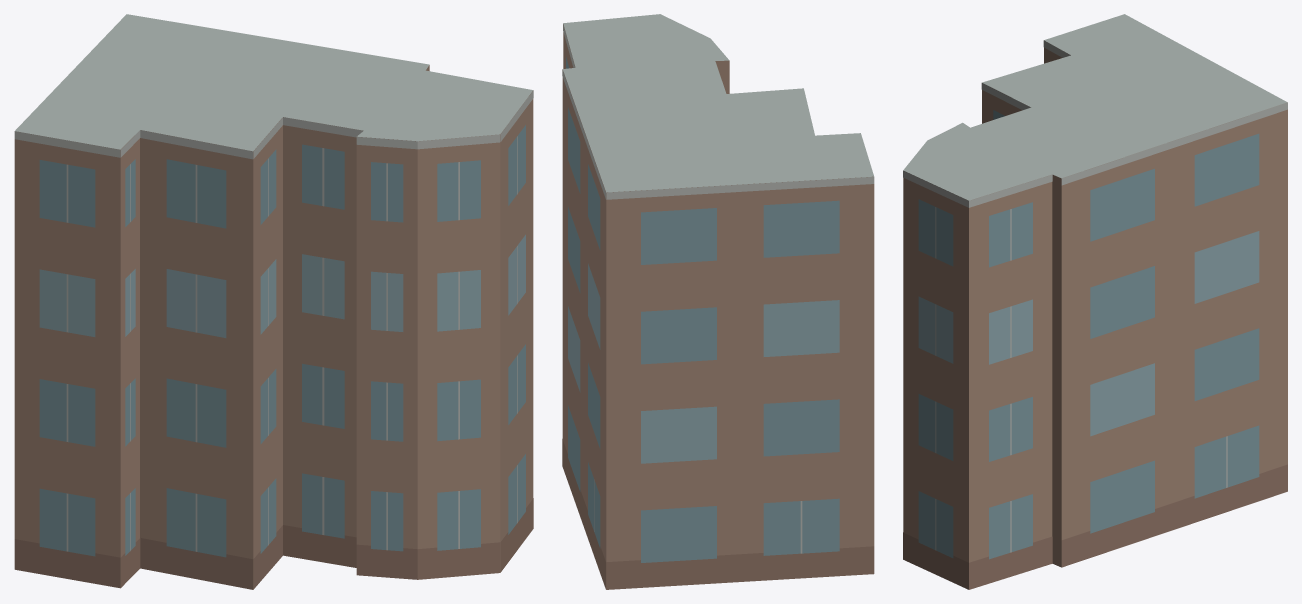
File: survey-upis-32472254.glb
3 views of the same model, side by side, from view 1: azimuth 30°, elevation 25°; view 2: azimuth 150°, elevation 25°; view 3: azimuth 270°, elevation 25° (orthographic). The views are drawn at different scales.
Parts seen in each view (by area): view 1: survey-upis-32472254.tmp; view 2: survey-upis-32472254.tmp; view 3: survey-upis-32472254.tmp.
Part boxes in pixels (bbox=[...]): survey-upis-32472254.tmp: bbox=[14, 14, 533, 589]; survey-upis-32472254.tmp: bbox=[562, 14, 874, 589]; survey-upis-32472254.tmp: bbox=[903, 14, 1287, 589].
Size of the model in its own units: 13.59 by 13.2 by 11.83.
